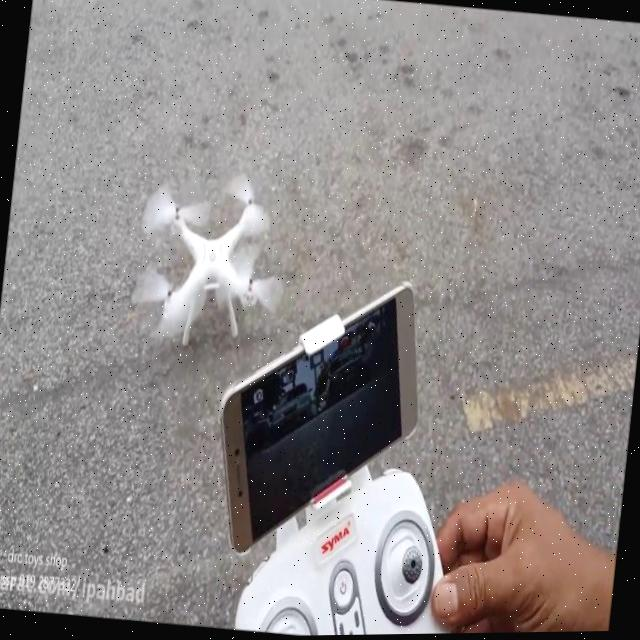drone: (122, 162, 296, 364)
